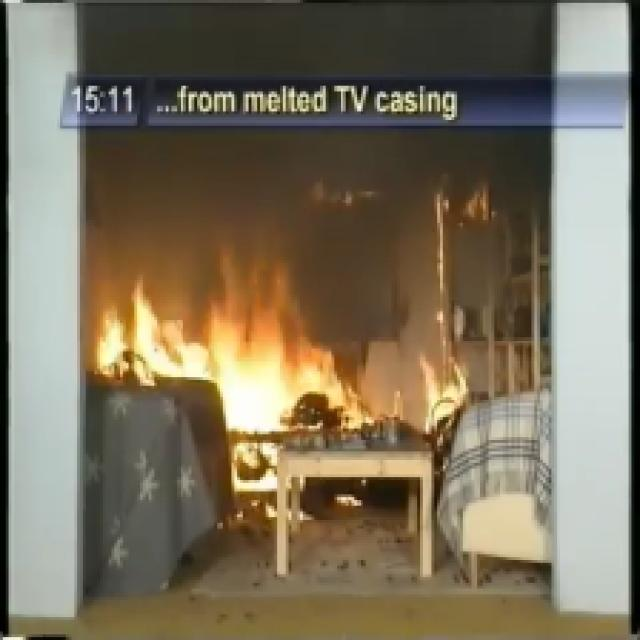fire: (103, 315, 314, 424)
